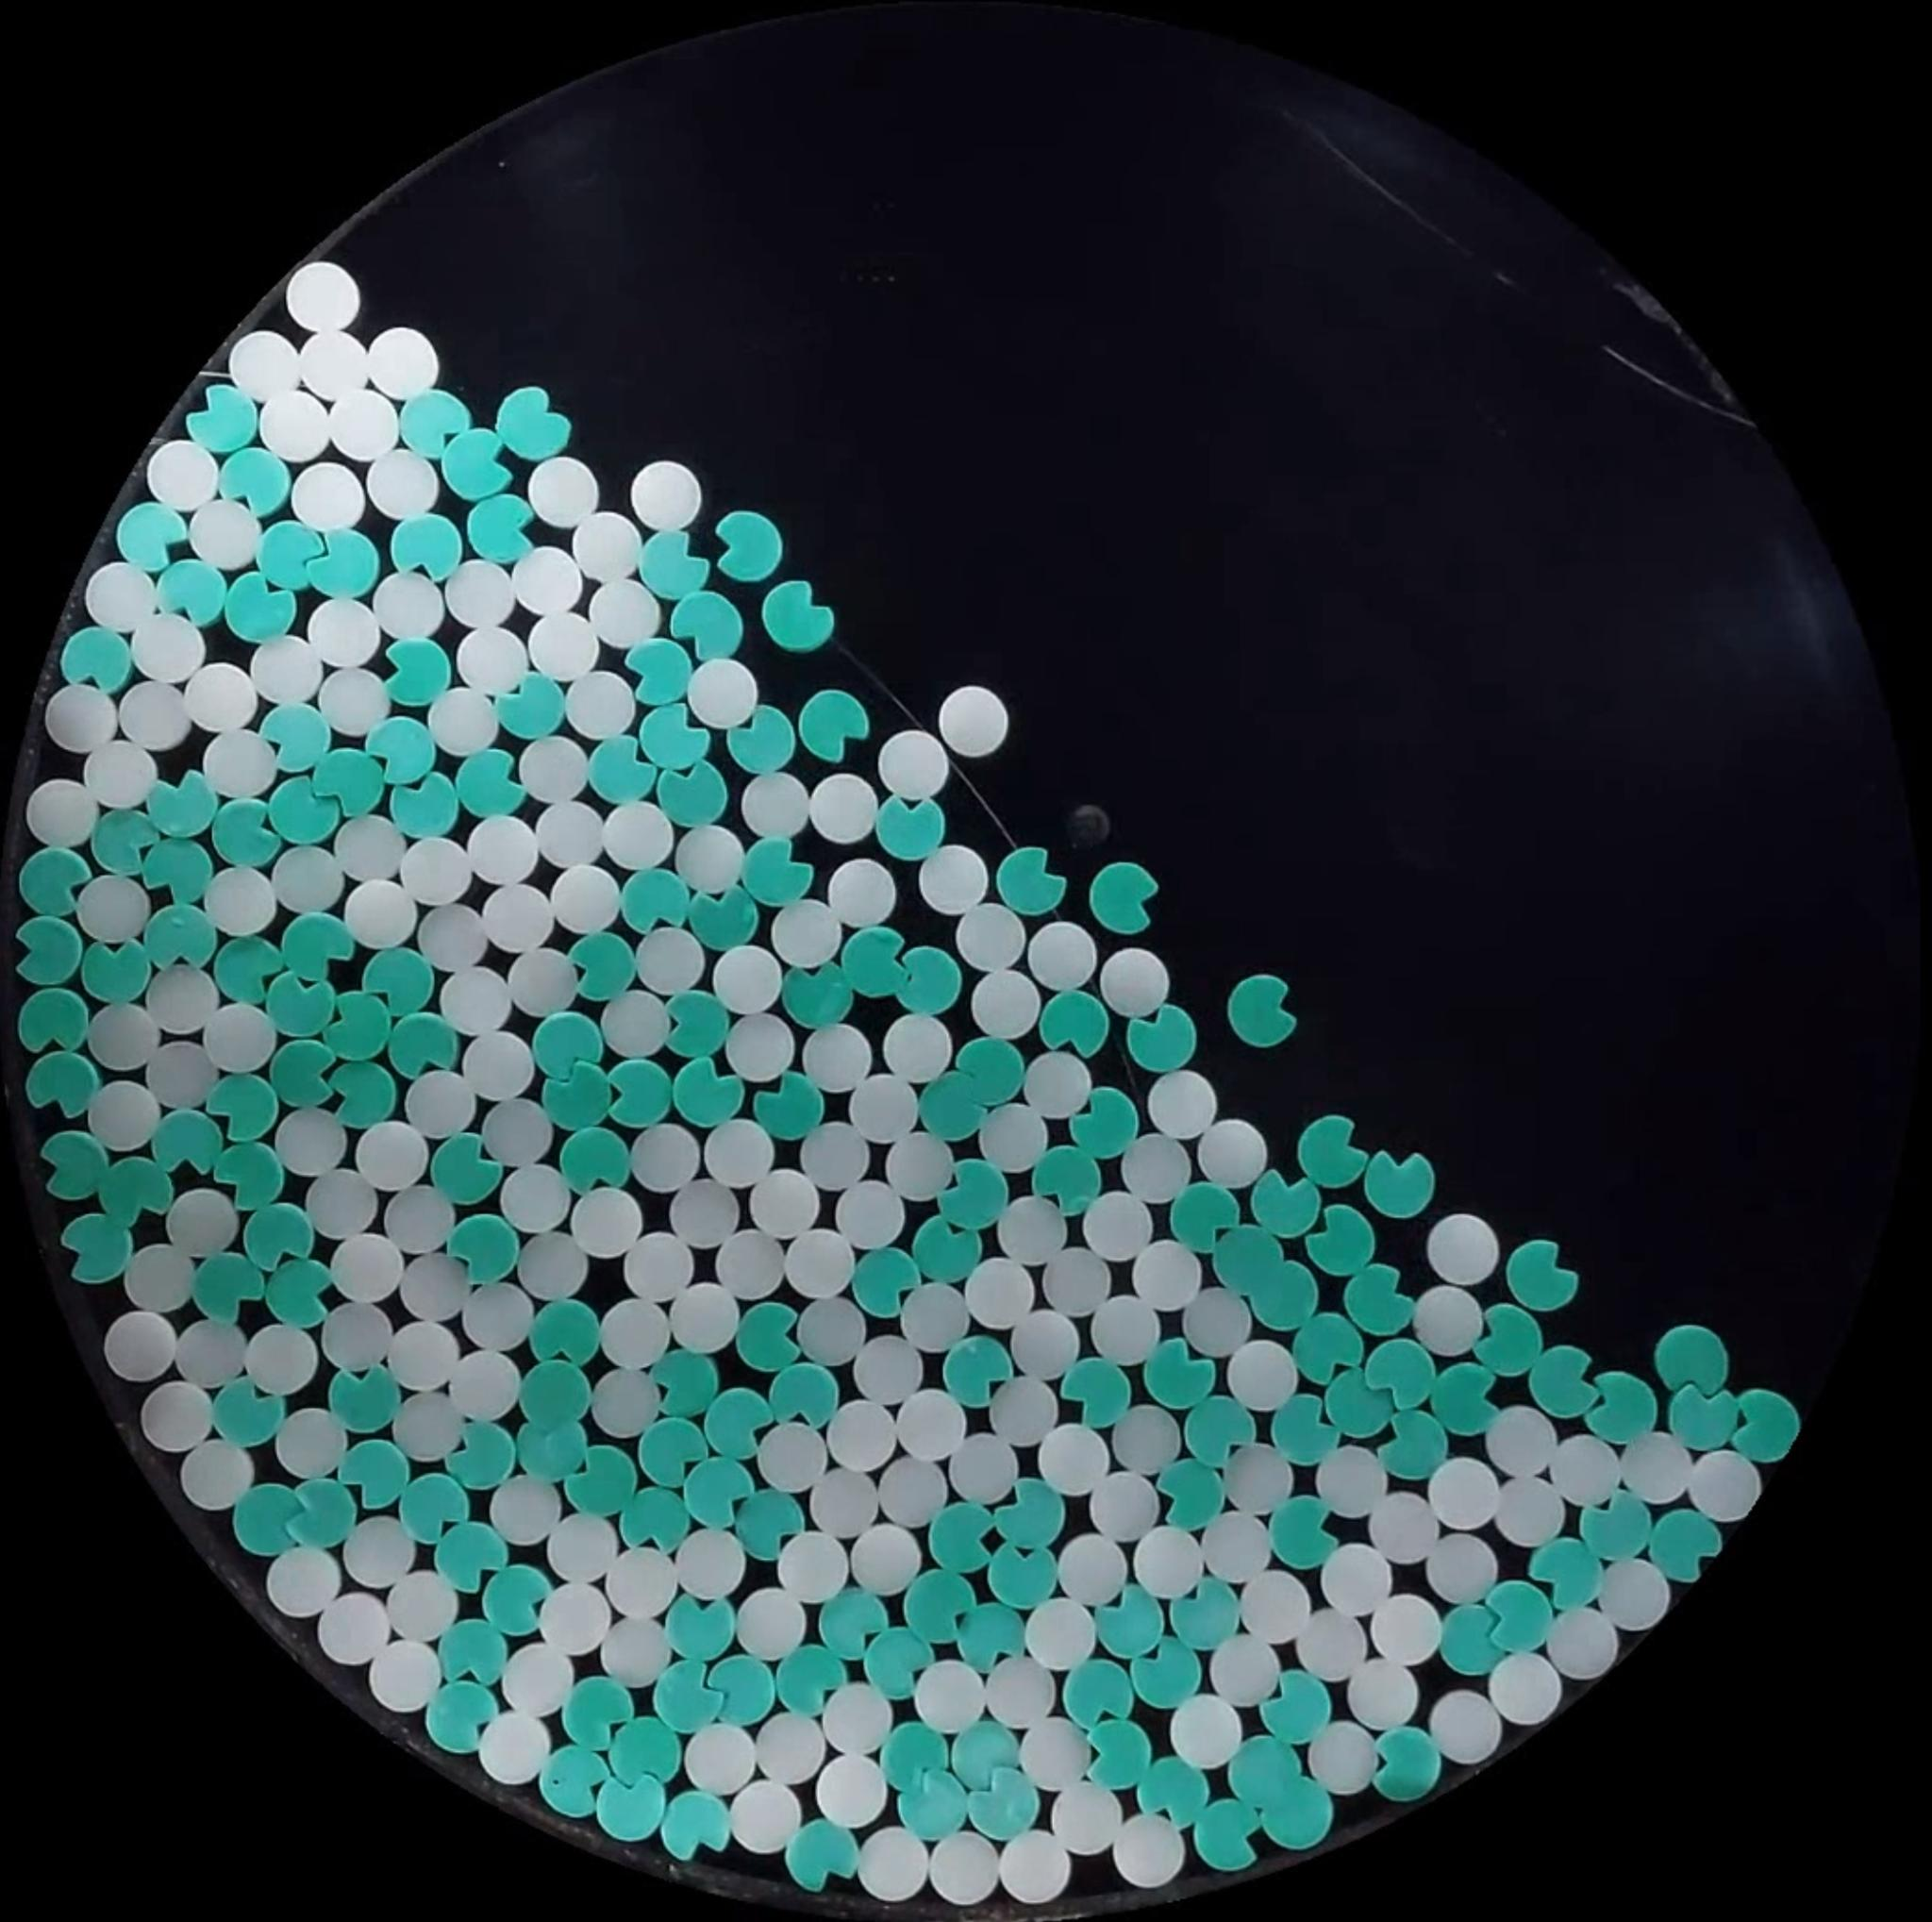disco-pmma: (690, 1225, 787, 1299), (301, 1165, 389, 1241), (662, 1276, 741, 1357), (123, 607, 206, 683), (582, 576, 665, 651), (431, 965, 516, 1038), (394, 1253, 480, 1325), (815, 1750, 892, 1829), (329, 1230, 408, 1308), (382, 1568, 459, 1647), (674, 820, 751, 899), (116, 678, 197, 753), (315, 1588, 392, 1665), (725, 1778, 802, 1855), (1182, 1283, 1260, 1361), (384, 1317, 463, 1392), (264, 1542, 343, 1618), (1344, 1656, 1423, 1732), (176, 1322, 255, 1397), (477, 1707, 551, 1788), (797, 1461, 878, 1535), (1487, 1649, 1564, 1725), (1237, 1568, 1313, 1646), (445, 1345, 523, 1420), (84, 998, 162, 1074), (537, 1579, 612, 1656), (84, 1077, 162, 1153), (178, 1438, 255, 1514), (1423, 1211, 1501, 1287), (366, 1637, 442, 1714), (137, 1380, 215, 1456), (1225, 1336, 1300, 1413), (1427, 1688, 1504, 1764), (1367, 1593, 1445, 1669), (84, 561, 160, 639), (392, 1390, 468, 1468), (602, 1545, 677, 1623), (878, 1454, 955, 1530), (306, 597, 385, 671), (79, 739, 158, 813), (984, 1656, 1065, 1728), (1035, 1246, 1116, 1318), (1489, 1480, 1571, 1551), (1299, 1607, 1369, 1690), (1596, 1556, 1672, 1632), (1427, 1456, 1503, 1531), (144, 961, 220, 1037), (465, 815, 542, 889), (202, 725, 280, 799), (243, 1322, 320, 1396), (271, 1406, 348, 1480), (144, 438, 222, 512), (42, 683, 120, 757), (1049, 1781, 1123, 1859), (1110, 1811, 1184, 1889), (102, 1308, 179, 1382), (296, 326, 373, 400), (315, 665, 392, 739), (602, 986, 676, 1063), (401, 1067, 480, 1139), (790, 1295, 871, 1366), (667, 1530, 750, 1598), (459, 1028, 535, 1102), (1423, 1528, 1499, 1602), (600, 799, 676, 873), (76, 869, 151, 943), (547, 859, 623, 933), (201, 1000, 276, 1074), (1170, 1693, 1246, 1767), (324, 387, 399, 461), (1619, 1431, 1693, 1507), (1547, 1431, 1621, 1507), (734, 1586, 809, 1660), (183, 660, 259, 734), (187, 498, 262, 572), (1547, 1605, 1622, 1679), (248, 635, 324, 709), (1306, 1721, 1381, 1795), (343, 877, 419, 950), (998, 1829, 1072, 1904), (229, 329, 304, 403), (202, 864, 280, 936), (683, 1721, 760, 1794), (952, 901, 1029, 973), (23, 778, 102, 848), (776, 1528, 850, 1602), (596, 1295, 670, 1369), (507, 942, 581, 1016), (781, 1229, 855, 1302), (751, 1711, 825, 1785), (259, 387, 333, 461), (1131, 1524, 1205, 1598), (1413, 1283, 1487, 1357), (686, 657, 762, 729), (1024, 1596, 1096, 1672), (354, 1119, 429, 1192), (528, 611, 604, 683), (1195, 1116, 1270, 1188), (628, 1123, 704, 1195), (1318, 1449, 1395, 1519), (892, 1389, 966, 1461), (702, 1118, 776, 1190), (713, 943, 787, 1016), (598, 1612, 670, 1686), (748, 1169, 822, 1241), (563, 667, 637, 739), (164, 1185, 238, 1257), (399, 834, 473, 906), (630, 459, 704, 532), (452, 621, 526, 693), (927, 1830, 999, 1904), (857, 1827, 929, 1901), (741, 769, 815, 841), (146, 1037, 220, 1109), (326, 1299, 398, 1373), (545, 1515, 619, 1588), (1487, 1408, 1559, 1482), (290, 461, 366, 532), (415, 899, 491, 970), (482, 1098, 558, 1169), (1059, 1540, 1135, 1610), (623, 1234, 700, 1302), (591, 1368, 660, 1445), (1205, 1514, 1283, 1582), (377, 1188, 456, 1255), (660, 1183, 741, 1248), (808, 773, 880, 845), (512, 547, 584, 620), (570, 1185, 642, 1257), (1038, 1422, 1110, 1494), (938, 685, 1010, 757), (1687, 1450, 1760, 1522), (948, 1434, 1021, 1507), (517, 736, 591, 806), (447, 560, 521, 630), (456, 625, 530, 695), (366, 449, 440, 519), (333, 813, 406, 884), (428, 686, 501, 757), (271, 845, 345, 915), (528, 456, 602, 526), (366, 327, 440, 398), (498, 1167, 572, 1237), (832, 1179, 903, 1253), (1321, 1544, 1392, 1618), (285, 260, 361, 329), (1086, 1473, 1165, 1538), (755, 1422, 827, 1493), (489, 1475, 561, 1545), (1098, 945, 1170, 1016), (1008, 1308, 1079, 1380), (827, 855, 897, 928), (459, 1280, 530, 1352), (570, 510, 644, 579), (848, 1074, 922, 1142), (637, 929, 711, 998), (771, 901, 845, 970), (1140, 1068, 1214, 1137), (1123, 1133, 1191, 1207), (1082, 1197, 1158, 1264), (514, 1232, 591, 1297), (1087, 1297, 1165, 1362), (970, 968, 1040, 1038), (501, 1644, 572, 1714), (373, 570, 445, 639), (878, 730, 950, 799), (1207, 1637, 1279, 1706), (482, 887, 556, 954), (343, 1521, 417, 1588), (827, 1403, 901, 1470), (924, 1658, 989, 1734), (537, 804, 614, 868), (1019, 1056, 1096, 1119), (918, 845, 989, 913), (1026, 921, 1096, 989), (876, 1010, 948, 1077), (1110, 1403, 1182, 1470), (125, 1243, 190, 1317), (894, 1285, 968, 1350), (975, 1111, 1050, 1174), (850, 1524, 918, 1593), (276, 1107, 347, 1174), (1226, 1445, 1297, 1512), (1371, 1494, 1438, 1565), (996, 1200, 1068, 1265), (797, 1121, 871, 1185), (992, 1382, 1061, 1449), (853, 1338, 920, 1405), (1024, 1716, 1091, 1783), (1130, 1244, 1200, 1308), (737, 1012, 799, 1084), (806, 1026, 871, 1093), (964, 1258, 1028, 1325), (883, 1135, 950, 1195), (831, 1690, 894, 1748)
